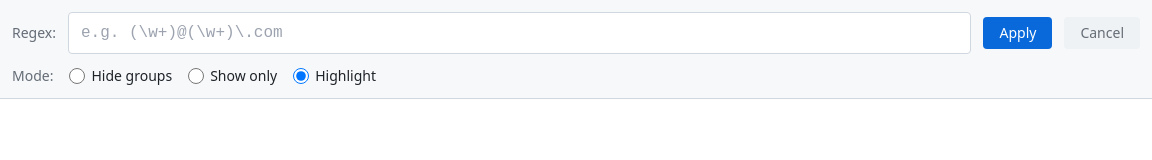
Test: RegexFilterPanel pattern box › paints the pattern in the overlay as it is typed
Type "(a)+" into the field with id "regex-filter-input" at point(520, 33), box [69, 13, 970, 53]
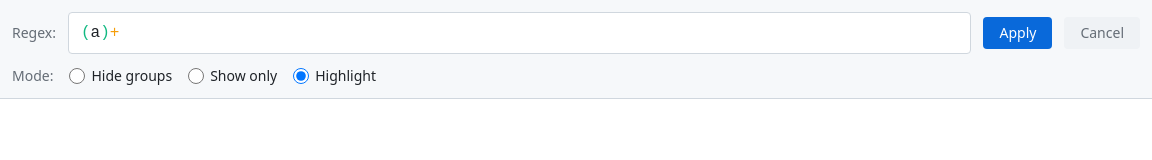
Check: the element showing "(a)+" is shown, box [81, 24, 119, 42]
Check: the text with class "group" reads "(", box [81, 24, 91, 42]
Check: the text with class "token" reads "+", box [110, 24, 119, 42]
